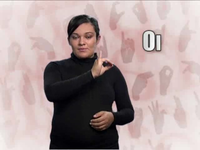oi: (90, 50, 115, 78)
